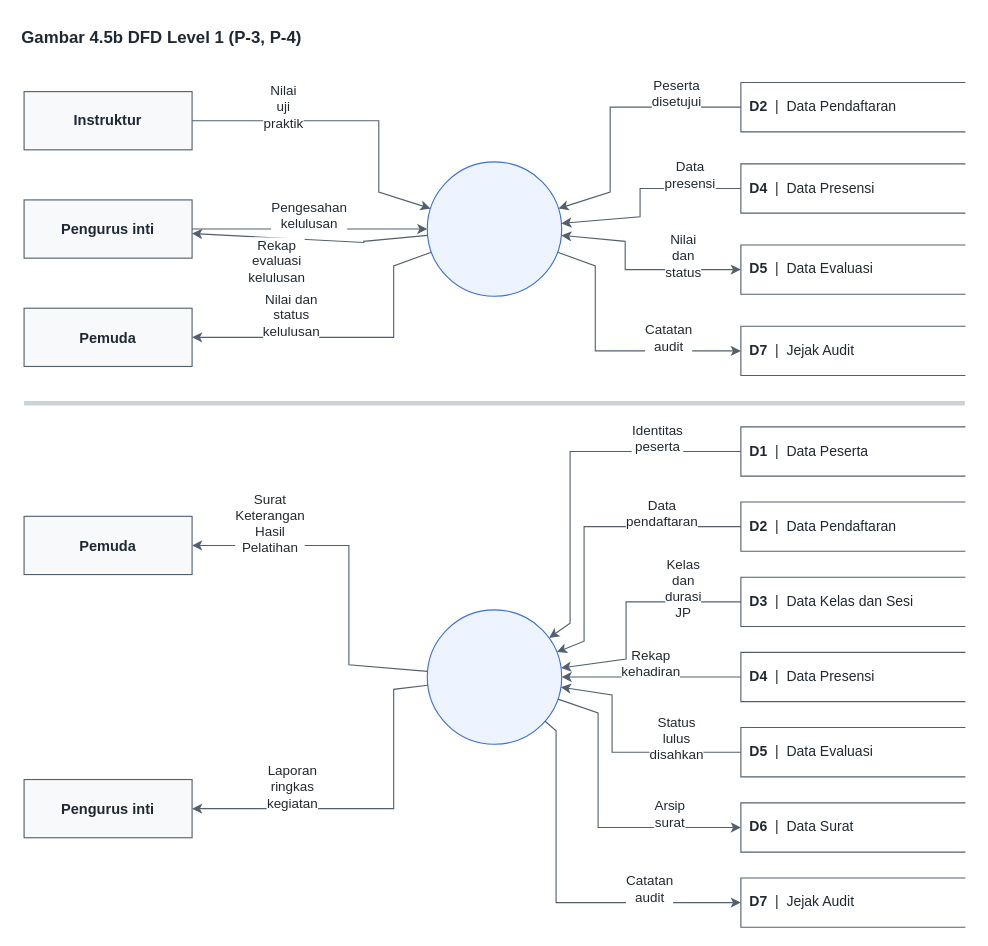
The diagram is 988 pixels wide and 946 high, and some of its shapes have lost their labels. Here are the shapes that lost their labels. From the top down, the box of each, then its label:
(426, 161, 562, 296): P-3 Evaluasi Kelulusan
(426, 609, 562, 744): P-4 Terbitkan Surat dan Laporan
